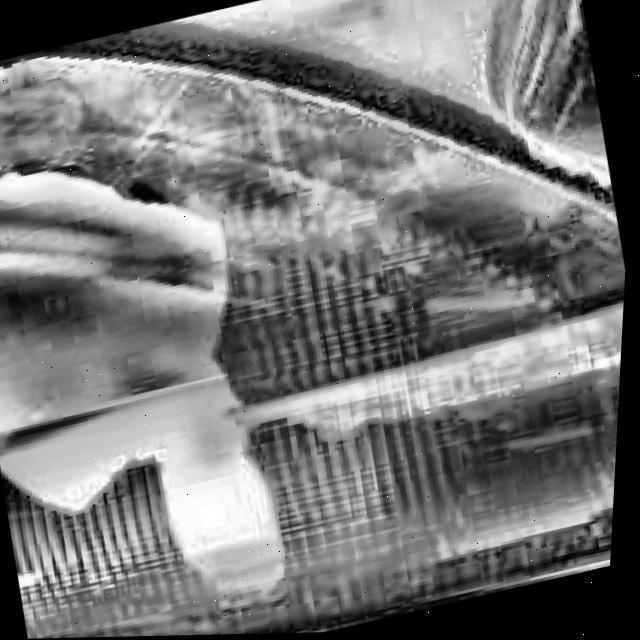tail_lamp: (0, 116, 330, 640)
